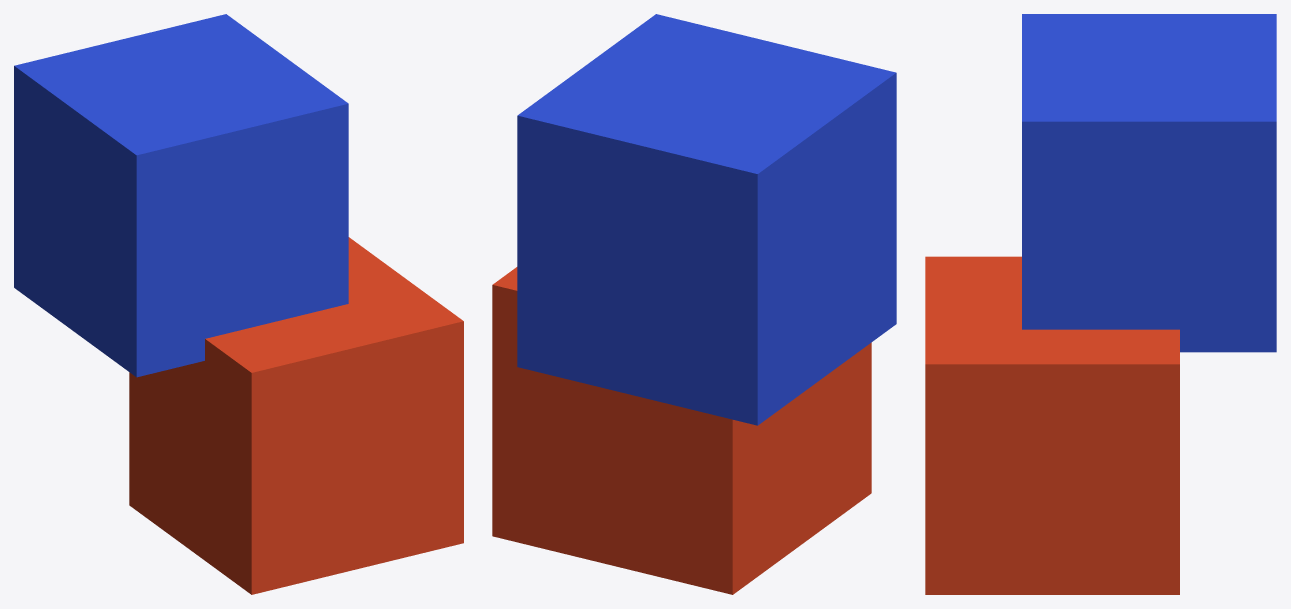
3 renders of one model, left to right at view 1: azimuth 30°, elevation 25°; view 2: azimuth 150°, elevation 25°; view 3: azimuth 270°, elevation 25°, orthographic. The views are drawn at different scales.
Parts seen in each view (by area): view 1: Cube; view 2: Cube; view 3: Cube.
Boxes of the visible parts, bbox=[...] form: Cube: bbox=[14, 14, 463, 594]; Cube: bbox=[492, 14, 896, 594]; Cube: bbox=[925, 14, 1276, 594].
Bounding box in the file's own units: 265 × 380 × 276.
